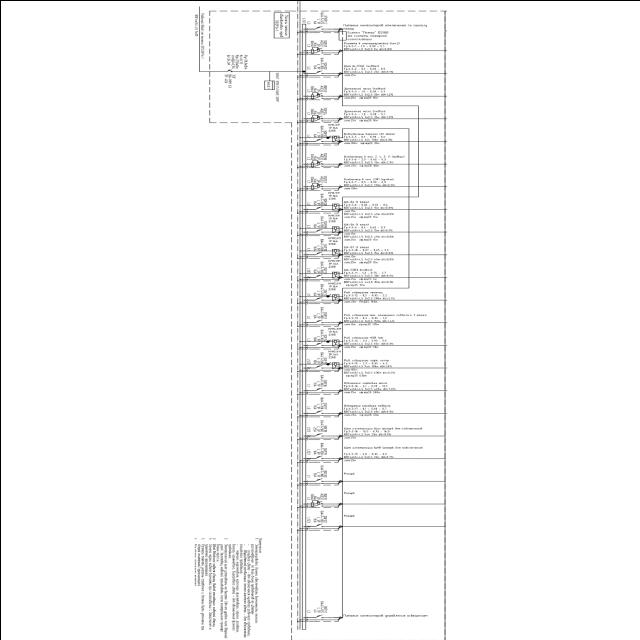-: (274, 71, 280, 102), (311, 56, 323, 70), (311, 11, 323, 24), (312, 124, 324, 137), (311, 215, 323, 228), (312, 463, 322, 478), (312, 600, 323, 613), (312, 396, 323, 409), (312, 418, 322, 432), (312, 442, 323, 454), (312, 238, 323, 250), (312, 328, 323, 340), (312, 260, 323, 272), (312, 306, 323, 318), (312, 352, 323, 364), (312, 283, 323, 295), (312, 192, 322, 205), (312, 509, 322, 522), (223, 73, 231, 88), (312, 374, 322, 386), (309, 152, 323, 160), (309, 38, 323, 46), (309, 84, 323, 92), (309, 106, 323, 114), (309, 175, 323, 182), (310, 492, 322, 500), (326, 352, 341, 358), (326, 284, 341, 290), (326, 239, 341, 245), (326, 329, 341, 335), (327, 193, 339, 200), (327, 125, 339, 132), (327, 262, 340, 268), (273, 18, 279, 31), (327, 216, 339, 222)
ITU: (332, 338, 337, 342), (332, 135, 337, 139), (332, 294, 337, 298), (332, 271, 337, 275), (332, 225, 337, 229), (332, 203, 337, 207), (332, 248, 337, 252), (332, 362, 337, 366)
KM: (332, 252, 338, 255), (332, 275, 338, 277), (332, 230, 338, 232), (332, 366, 338, 368), (332, 207, 338, 209), (332, 298, 338, 300), (332, 139, 338, 141), (332, 342, 338, 344)
QF: (314, 386, 324, 391), (313, 432, 323, 436), (314, 25, 324, 29), (314, 70, 324, 74), (314, 138, 324, 142), (314, 206, 324, 210), (314, 228, 324, 232), (314, 250, 324, 254), (313, 274, 323, 278), (314, 296, 324, 300), (313, 318, 323, 322), (314, 342, 324, 346), (314, 364, 324, 368), (314, 409, 324, 413), (314, 454, 324, 458), (314, 477, 324, 481), (313, 522, 323, 526), (314, 614, 322, 618), (226, 68, 232, 72)
QFD: (310, 46, 322, 54), (310, 91, 322, 99), (310, 114, 322, 122), (310, 159, 322, 167), (310, 182, 322, 190), (310, 498, 322, 506)
WH: (262, 79, 274, 89)
